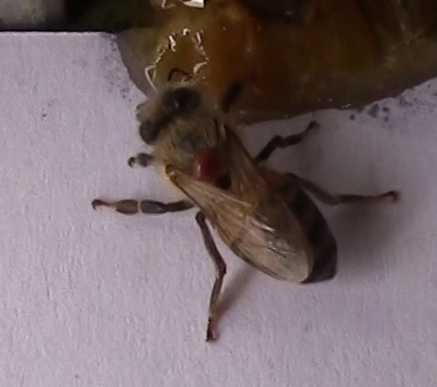Varroa destructor: (187, 146, 227, 183)
